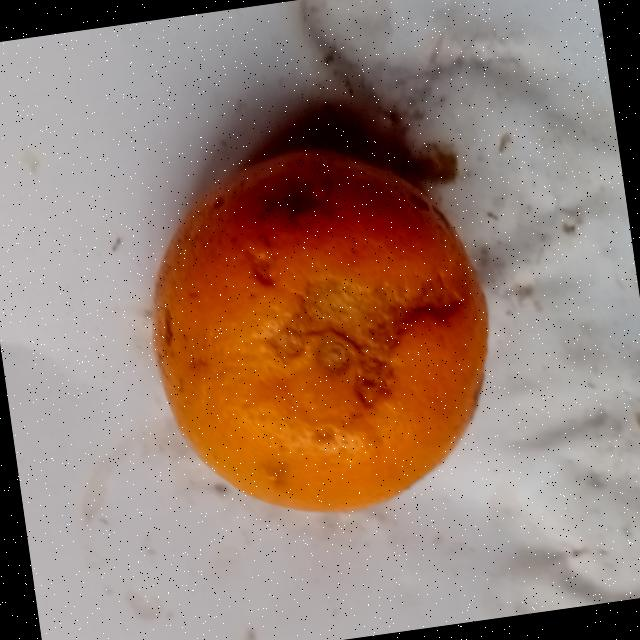overripe: (121, 115, 520, 548)
